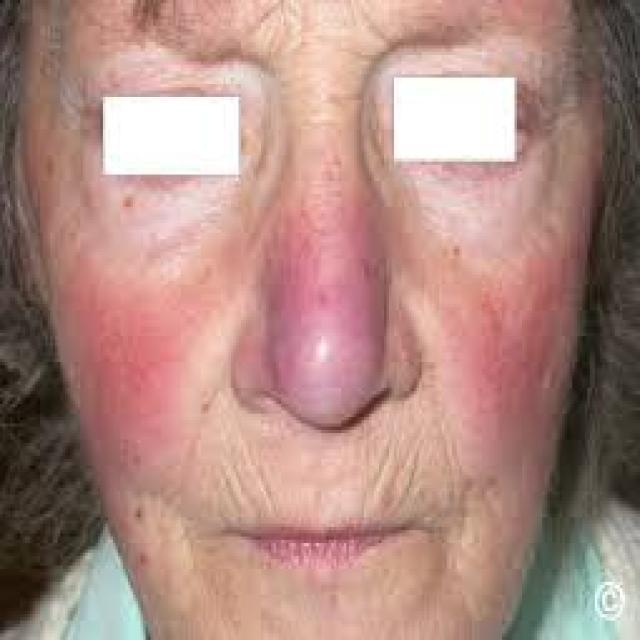Rosacea: (37, 236, 252, 484), (246, 182, 418, 404), (434, 217, 576, 471)
